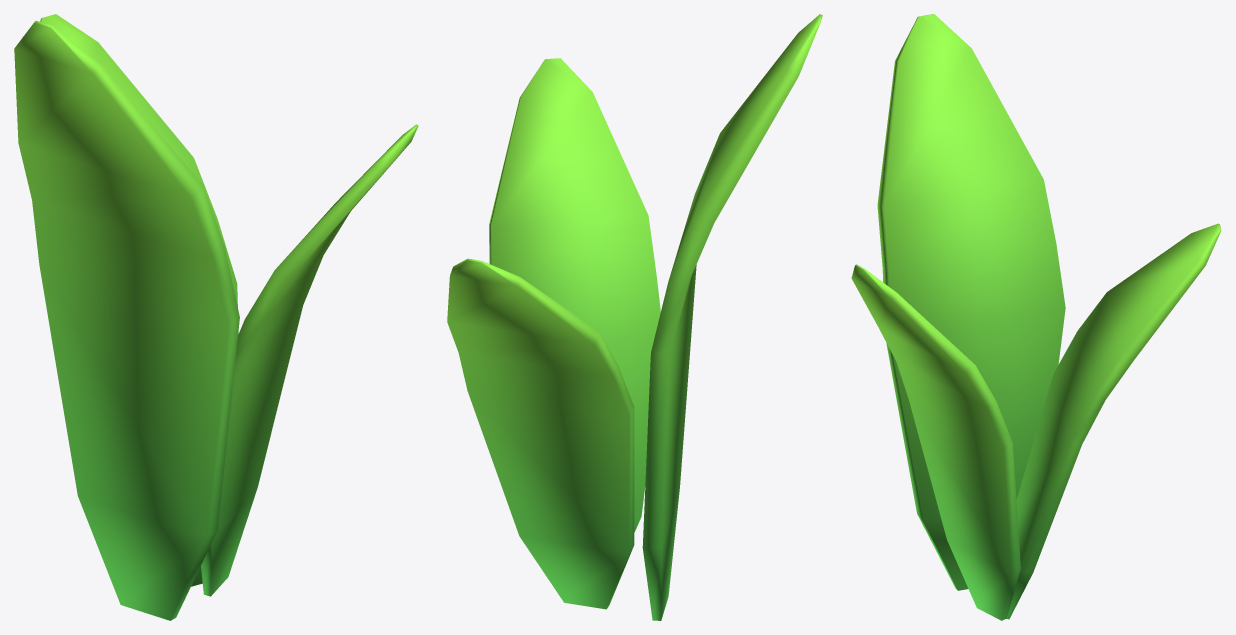
Rendered from Grass003.fbx.
The picture shows the model from 3 angles, left to right: view 1: azimuth 30°, elevation 25°; view 2: azimuth 150°, elevation 25°; view 3: azimuth 270°, elevation 25°; orthographic projection. The views are drawn at different scales.
Parts seen in each view (by area): view 1: Grass003; view 2: Grass003; view 3: Grass003.
Part boxes in pixels (bbox=[...]): Grass003: bbox=[14, 14, 418, 620]; Grass003: bbox=[447, 14, 822, 620]; Grass003: bbox=[851, 14, 1221, 620].
Bounding box in the file's own units: 43.03 × 75.82 × 49.16.
